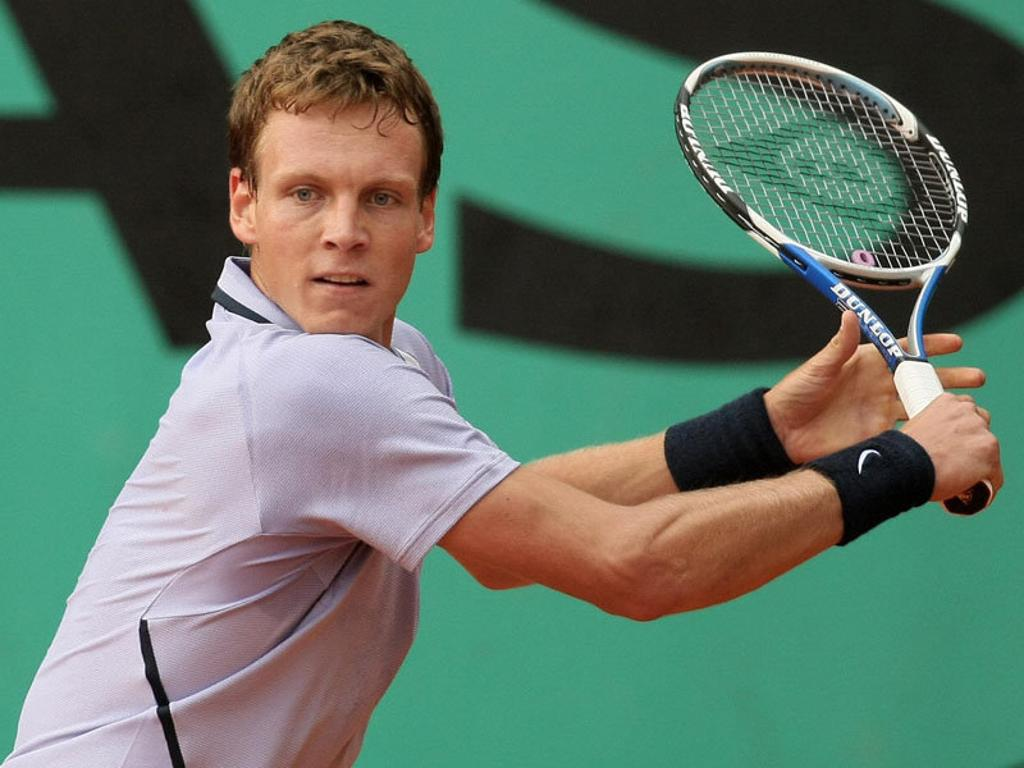face: (253, 101, 421, 335)
